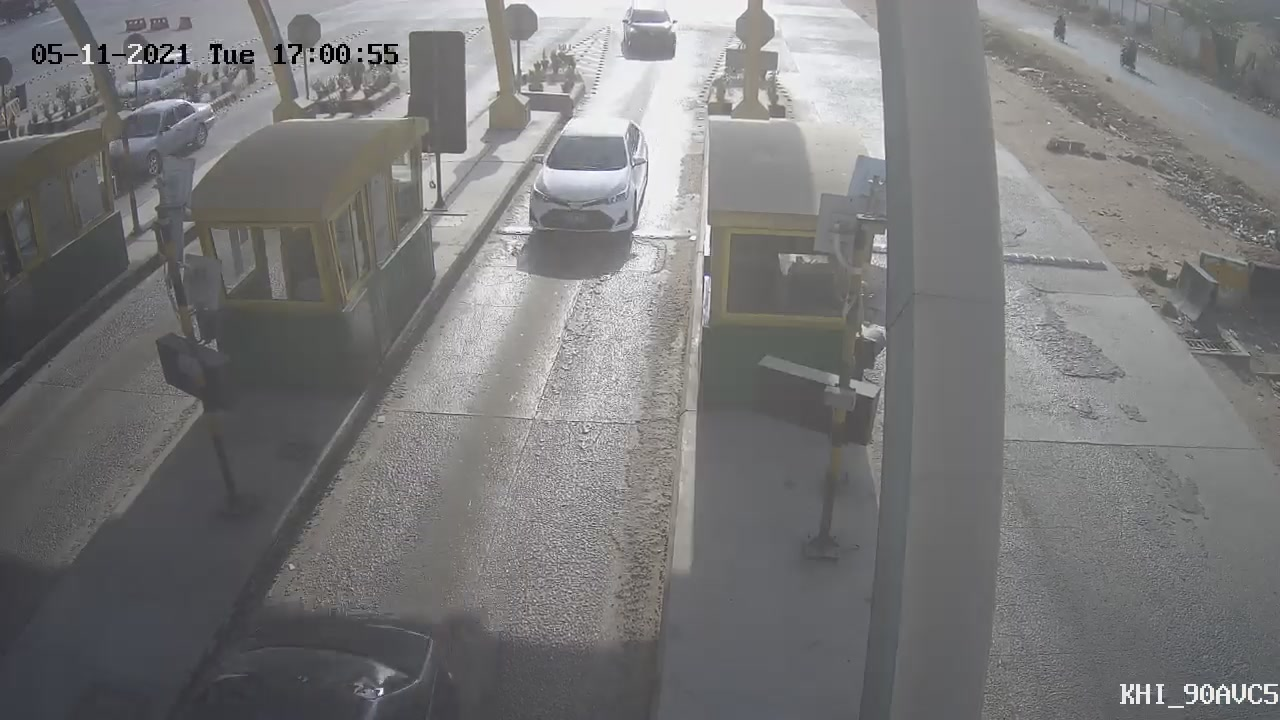F1: (508, 96, 665, 261)
